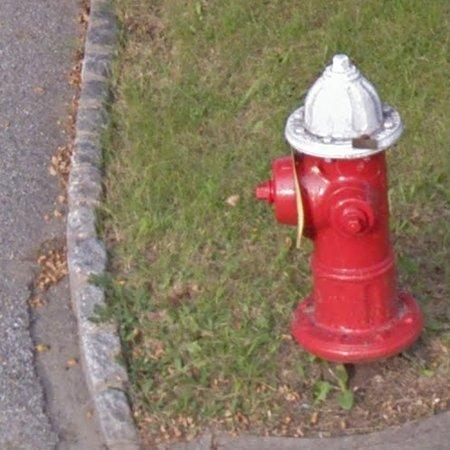a fire hydrant: (256, 53, 425, 364)
